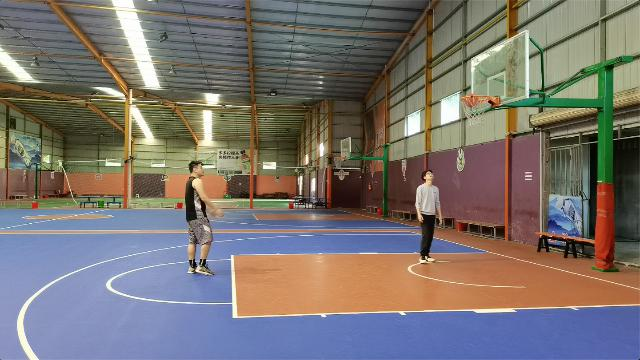basket: (460, 95, 490, 126)
goal: (462, 91, 480, 107)
